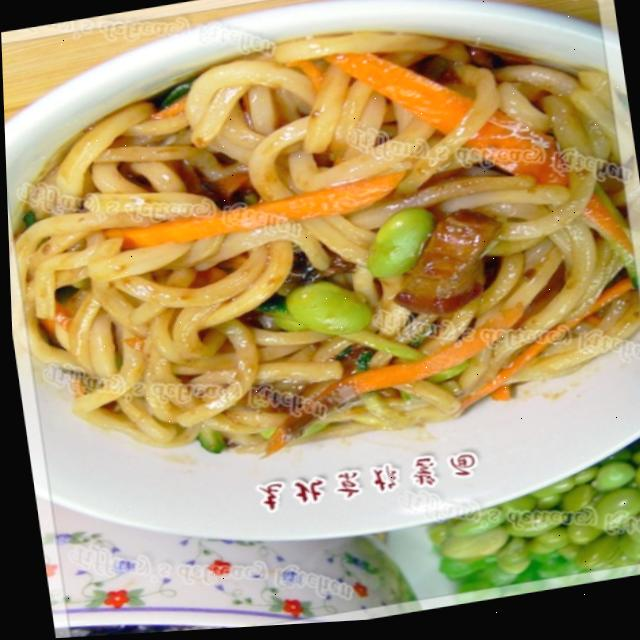面条主食: (0, 0, 640, 546)
